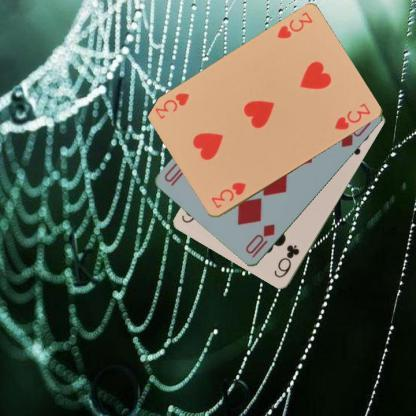10d: (242, 222, 276, 260)
3h: (208, 180, 248, 210), (274, 10, 314, 40)
6c: (272, 242, 301, 280)
